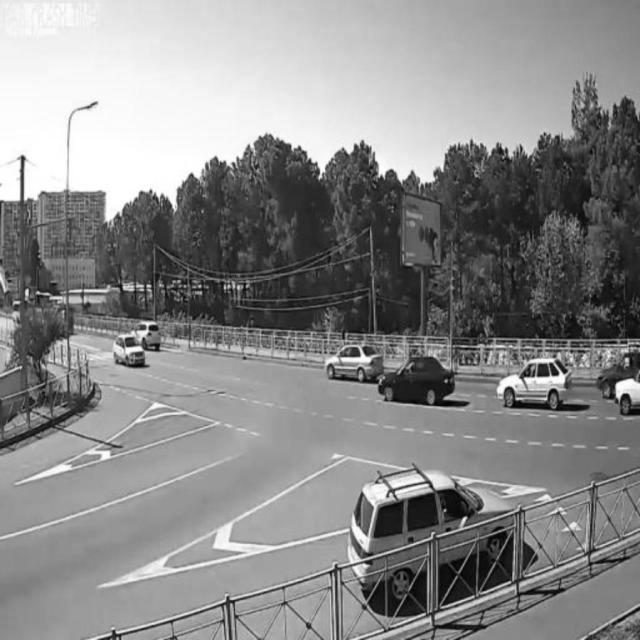vehicle: (347, 472, 513, 596), (378, 350, 459, 408), (498, 357, 570, 413), (325, 340, 383, 382), (598, 353, 639, 398), (112, 330, 148, 372), (614, 372, 640, 417), (134, 318, 162, 353)
